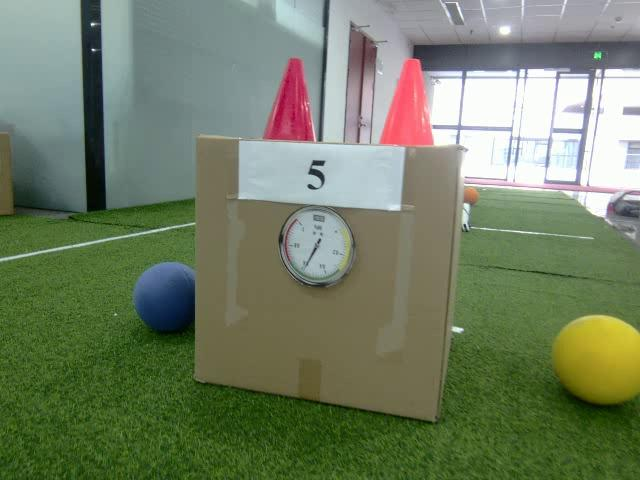5: (304, 159, 326, 191)
Dashboard: (278, 204, 357, 290)
blue_ball: (133, 262, 197, 331)
orange_barrel: (383, 59, 438, 146)
red_barrel: (263, 58, 319, 141)
ssi: (311, 212, 329, 225)
yellow_ball: (550, 315, 640, 407)
